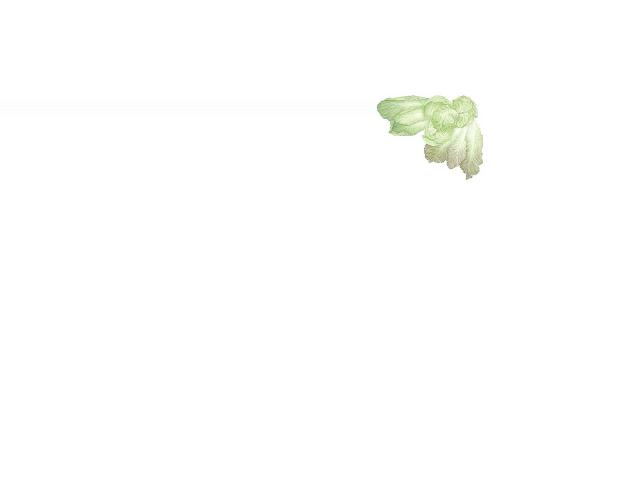lettuce: (376, 89, 484, 184)
